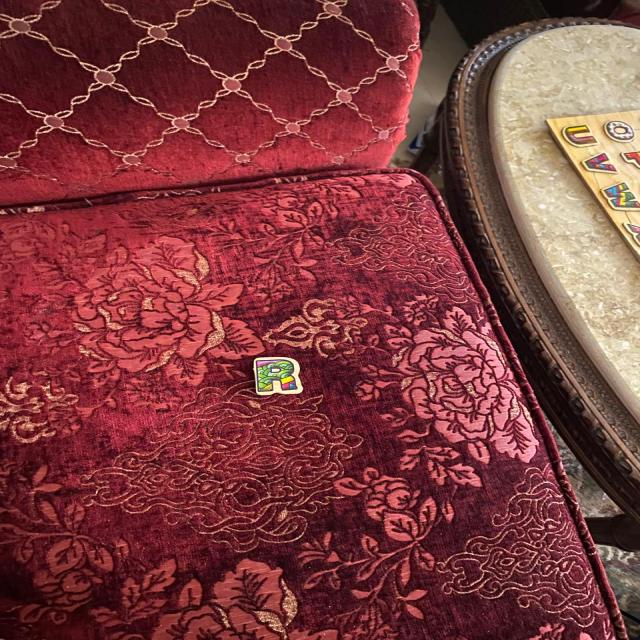R: (255, 358, 303, 395)
